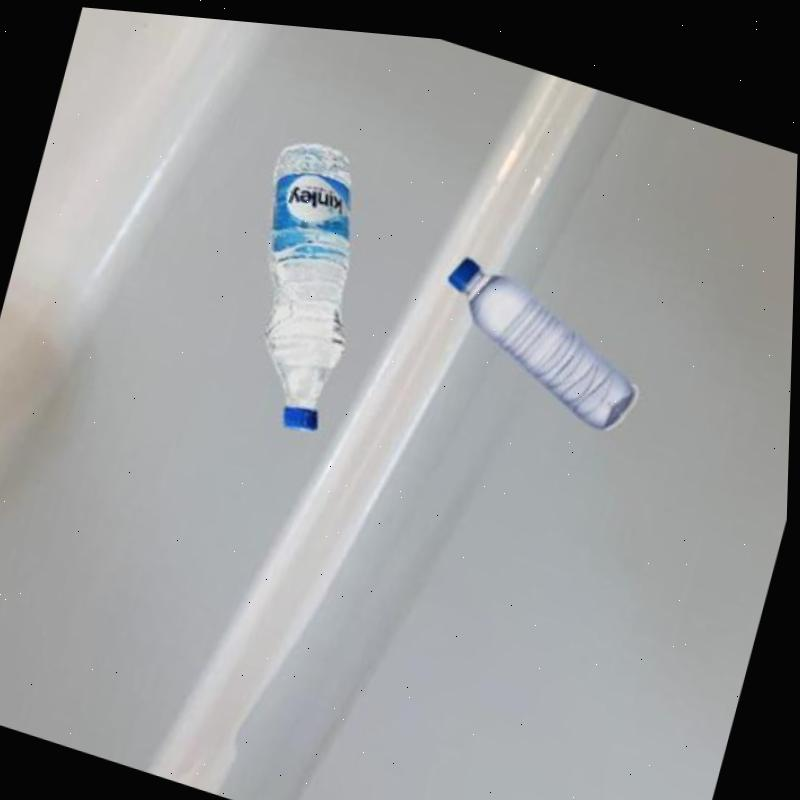botella: (212, 121, 395, 434), (422, 242, 660, 427)
